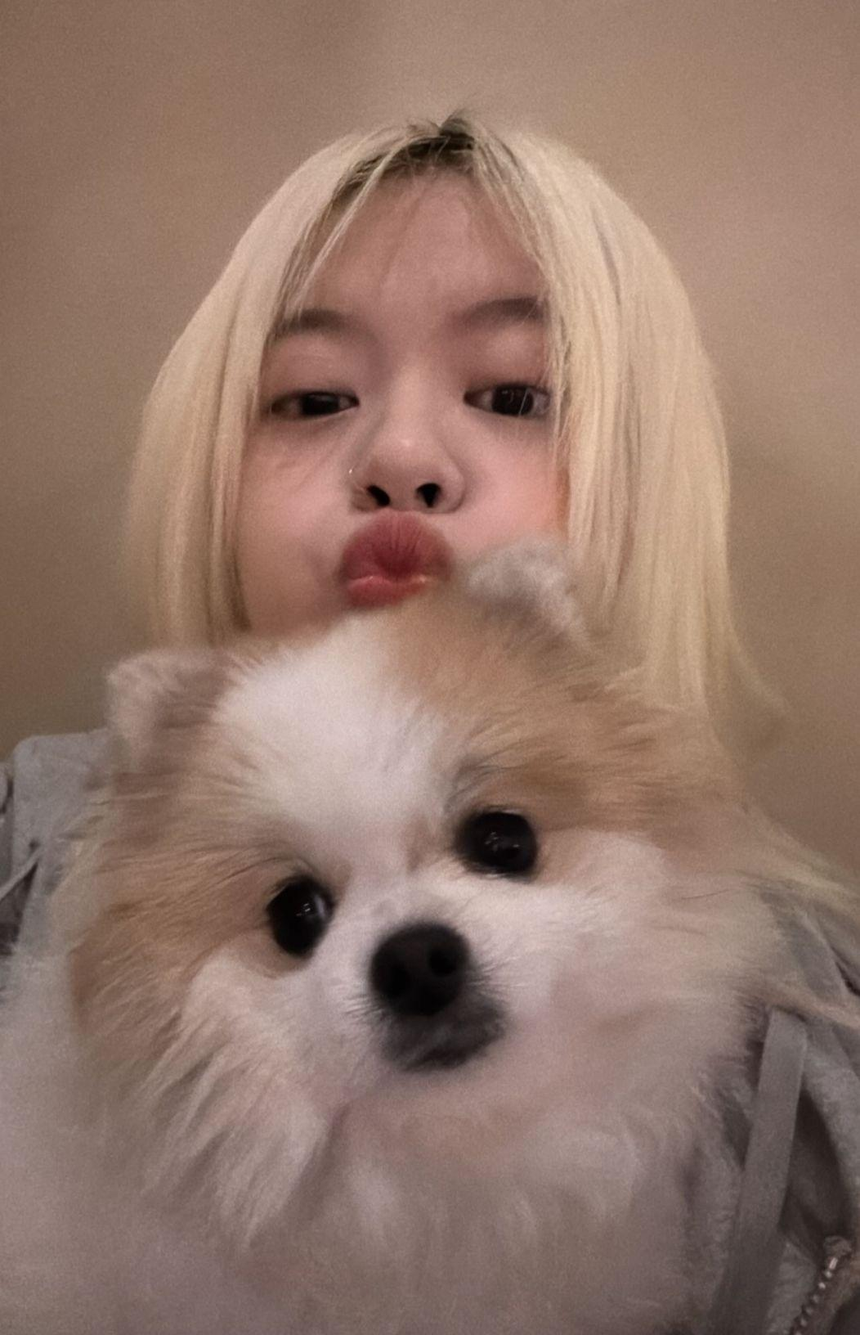adult_dog: (1, 535, 859, 1335)
non-dog: (1, 105, 859, 1333)
